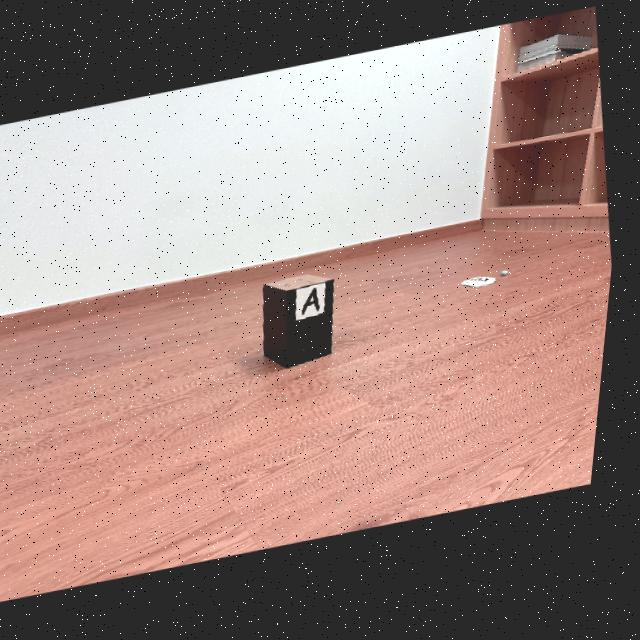A: (308, 292, 327, 316)
